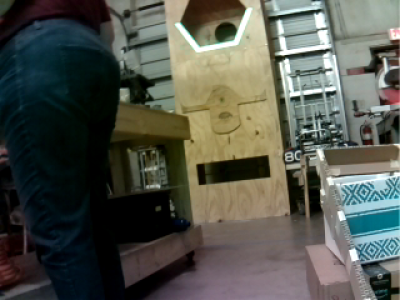target: (176, 7, 254, 53)
